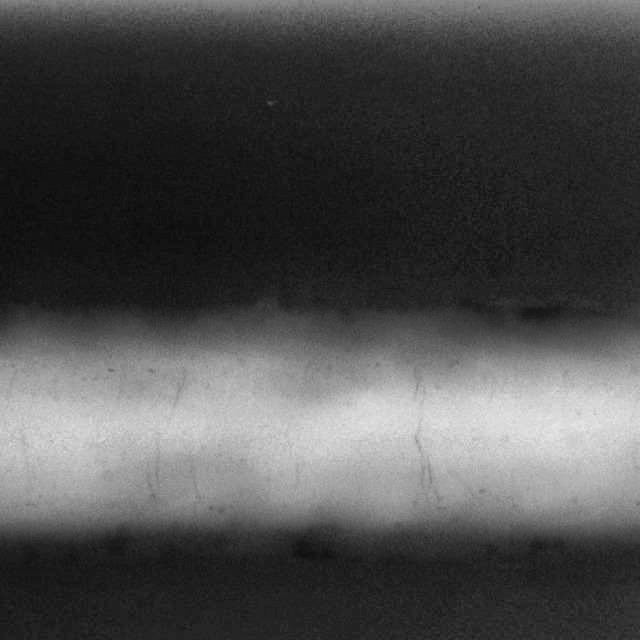Crack: (124, 344, 225, 525), (395, 344, 472, 532)
